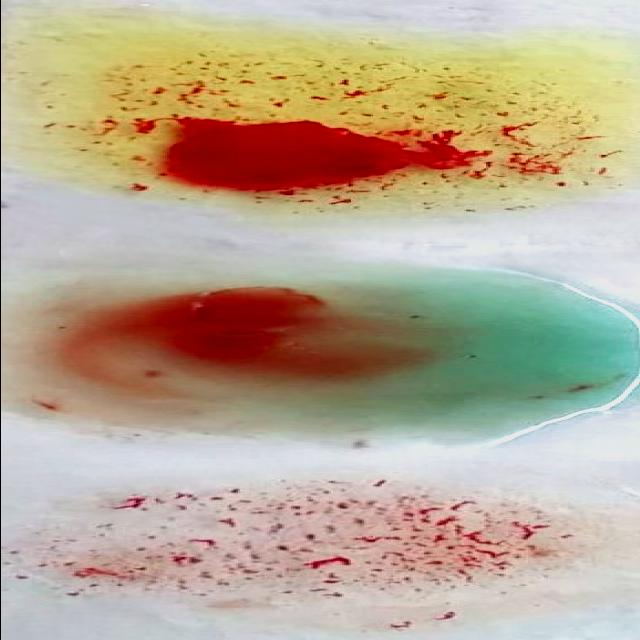B: (4, 40, 632, 196)
D: (8, 482, 568, 600)
